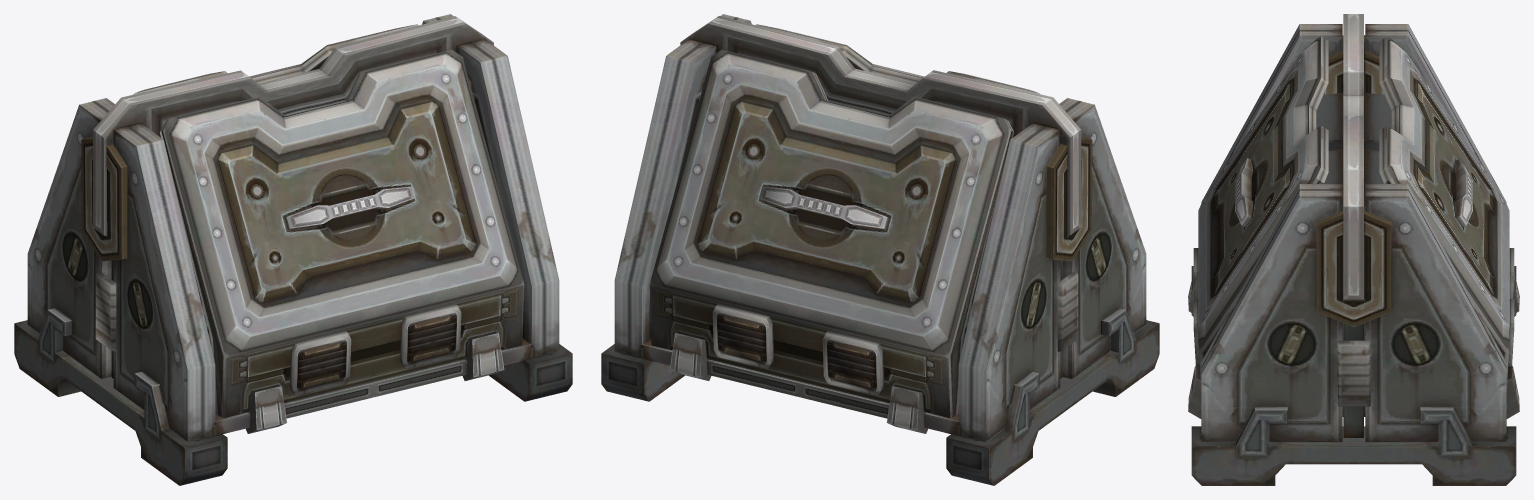
File: all_item_rep_gun_rack_closed.glb
The picture shows the model from 3 angles, left to right: view 1: azimuth 30°, elevation 25°; view 2: azimuth 150°, elevation 25°; view 3: azimuth 270°, elevation 25°; orthographic projection. The views are drawn at different scales.
Parts seen in each view (by area): view 1: all_item_rep_gun_rack_closed; view 2: all_item_rep_gun_rack_closed; view 3: all_item_rep_gun_rack_closed.
Part boxes in pixels (x1,y1,x2,y2): all_item_rep_gun_rack_closed: (14, 14, 572, 485); all_item_rep_gun_rack_closed: (601, 14, 1159, 485); all_item_rep_gun_rack_closed: (1188, 14, 1519, 485).
Bounding box in the file's own units: 0.2595 × 0.2031 × 0.2007.
Materials: 1 (1 with a texture image).
